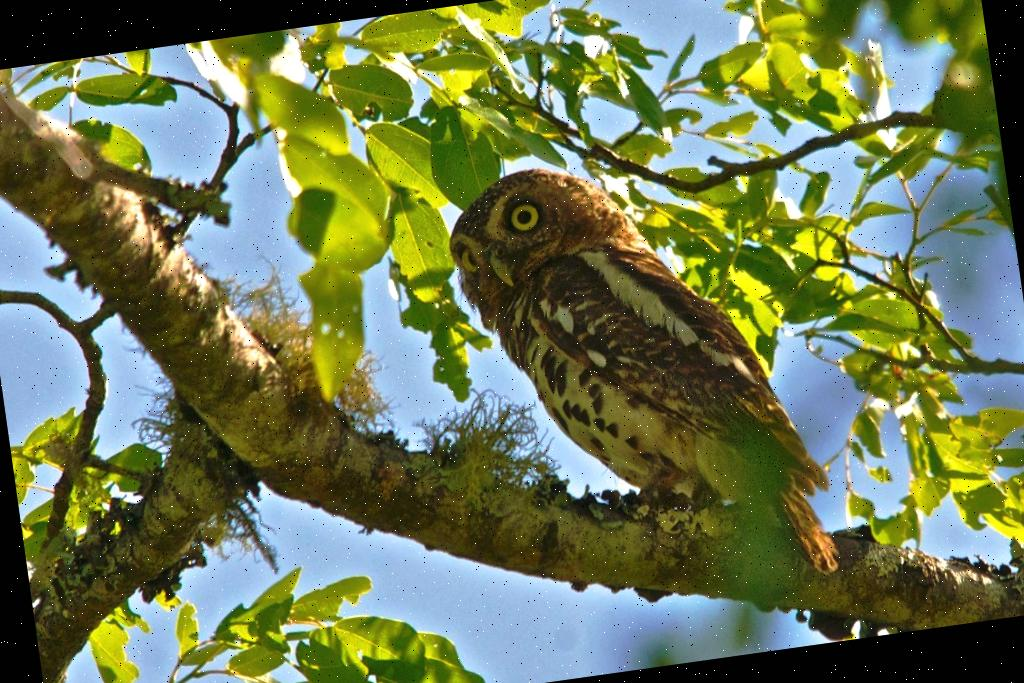Owl: (439, 125, 847, 623)
